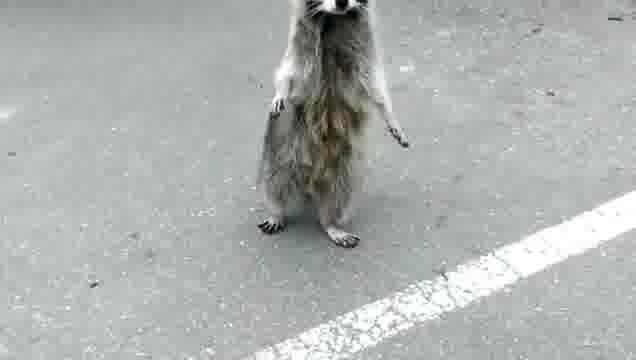raccoon: (257, 0, 409, 251)
